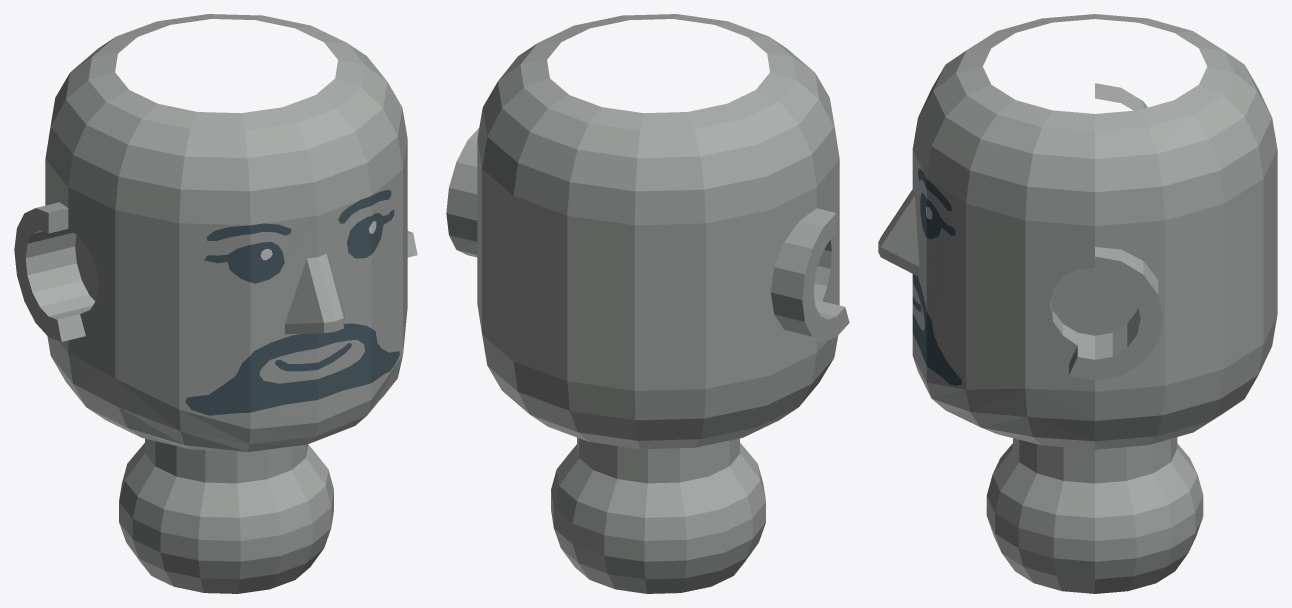
3 renders of one model, left to right at view 1: azimuth 30°, elevation 25°; view 2: azimuth 150°, elevation 25°; view 3: azimuth 270°, elevation 25°, orthographic.
Parts seen in each view (by area): view 1: world; view 2: world; view 3: world.
Boxes of the visible parts, <box> form: world: <box>14,14,417,593</box>; world: <box>446,14,849,593</box>; world: <box>878,14,1277,593</box>.
Bounding box in the file's own units: 0.0144 × 0.019 × 0.014.
